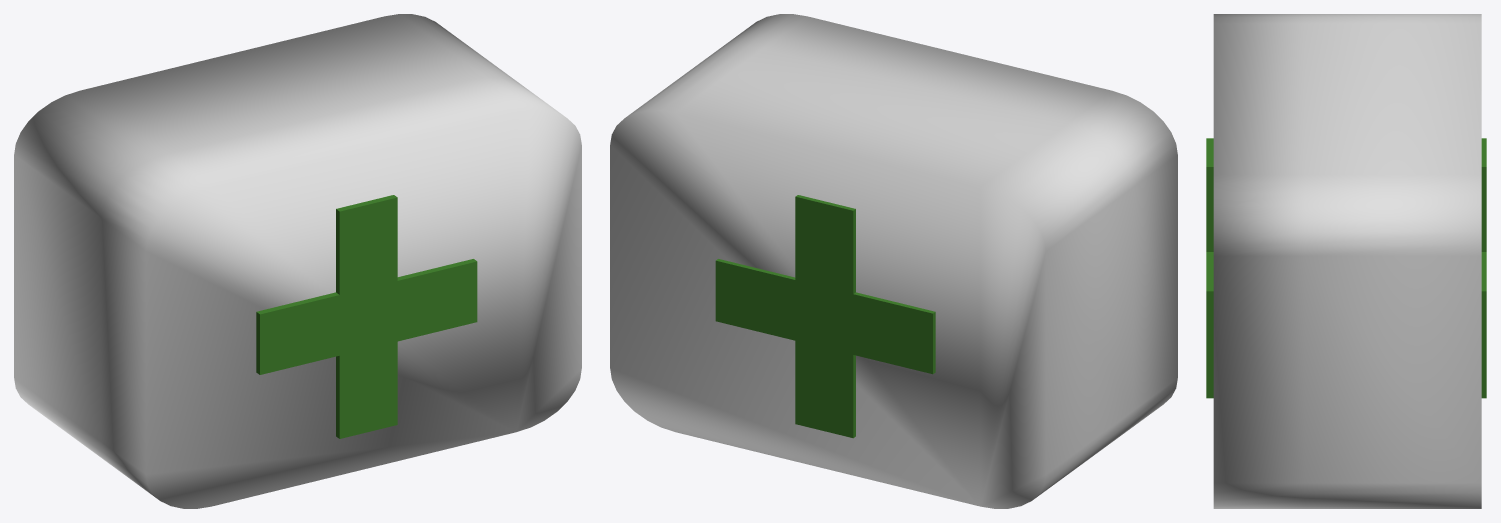
The model's file is health_pack.fbx.
The picture shows the model from 3 angles, left to right: view 1: azimuth 30°, elevation 25°; view 2: azimuth 150°, elevation 25°; view 3: azimuth 270°, elevation 25°; orthographic projection.
Parts seen in each view (by area): view 1: Cube; view 2: Cube; view 3: Cube.
Part boxes in pixels (bbox=[...]): Cube: bbox=[14, 14, 581, 508]; Cube: bbox=[610, 14, 1177, 508]; Cube: bbox=[1206, 14, 1486, 508].
Bounding box in the file's own units: 286 × 200 × 157.
